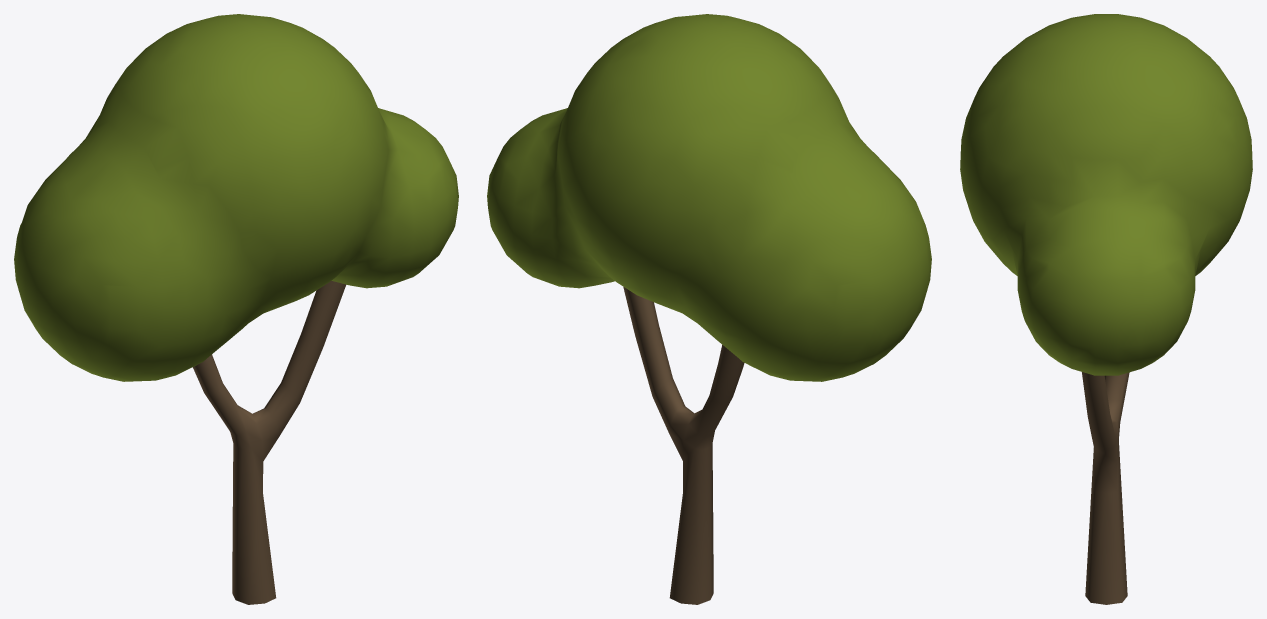
The model's file is tree1.glb.
3 views of the same model, side by side, from view 1: azimuth 30°, elevation 25°; view 2: azimuth 150°, elevation 25°; view 3: azimuth 270°, elevation 25° (orthographic).
Visible parts, largest first — view 1: Tree_3; view 2: Tree_3; view 3: Tree_3.
Part boxes in pixels (left/top/right/bottom): Tree_3: left=14, top=14, right=458, bottom=604; Tree_3: left=487, top=14, right=931, bottom=604; Tree_3: left=960, top=14, right=1252, bottom=604.
Bounding box in the file's own units: 4.27 × 5.59 × 2.64.
